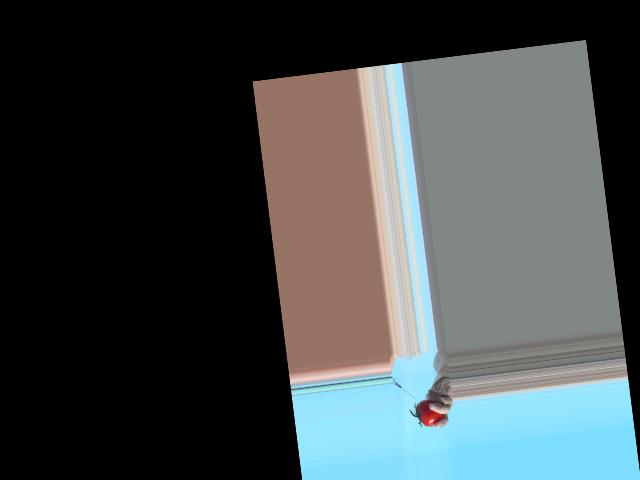tomato: (414, 398, 445, 428)
